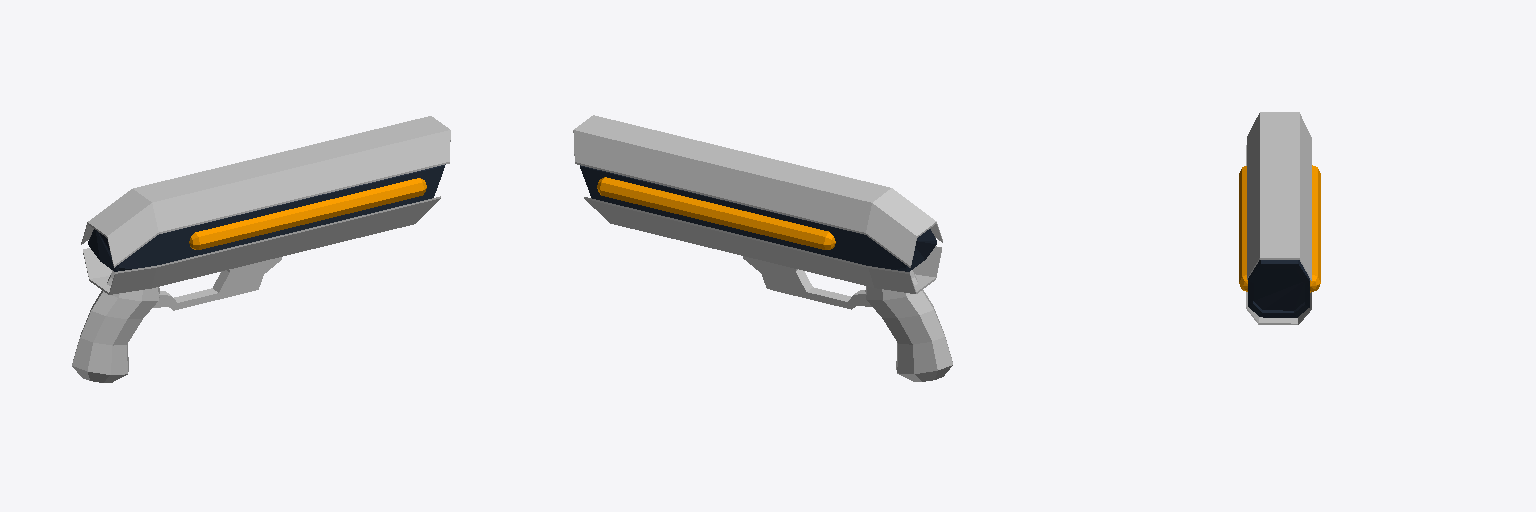
Rendered from props.obj.
3 renders of one model, left to right at view 1: azimuth 30°, elevation 25°; view 2: azimuth 150°, elevation 25°; view 3: azimuth 270°, elevation 25°, orthographic.
Parts seen in each view (by area): view 1: Cylinder.003, Cylinder.004, Cylinder.002, Cylinder.005, Sphere.001, Cube_Cube.003; view 2: Cylinder.003, Cylinder.004, Cylinder.002, Cylinder.005, Sphere, Cube_Cube.003; view 3: Cylinder.003, Cylinder.002, Sphere, Sphere.001, Cylinder.004.
Boxes of the visible parts, x1,y1,x2,y2 form: Cylinder.003: [81, 116, 450, 267]; Cylinder.004: [83, 196, 440, 294]; Cylinder.002: [88, 164, 445, 271]; Cylinder.005: [72, 270, 159, 382]; Sphere.001: [189, 178, 426, 249]; Cube_Cube.003: [153, 257, 281, 310]; Cylinder.003: [573, 115, 942, 267]; Cylinder.004: [584, 197, 941, 293]; Cylinder.002: [580, 165, 936, 271]; Cylinder.005: [865, 270, 952, 381]; Sphere: [597, 177, 835, 249]; Cube_Cube.003: [743, 256, 871, 309]; Cylinder.003: [1247, 112, 1311, 280]; Cylinder.002: [1248, 260, 1309, 317]; Sphere: [1310, 165, 1320, 292]; Sphere.001: [1239, 166, 1247, 291]; Cylinder.004: [1246, 145, 1311, 324].
Size of the model in its own units: 2.61 by 1.2 by 0.5014.